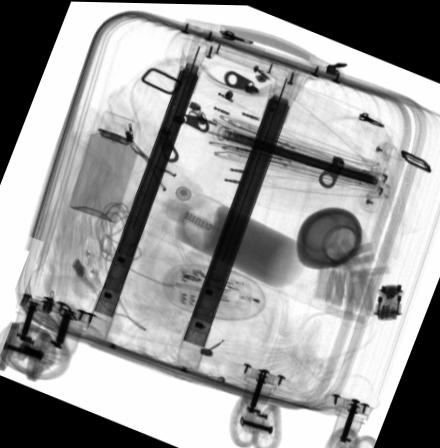Sprayer: (68, 108, 138, 221)
